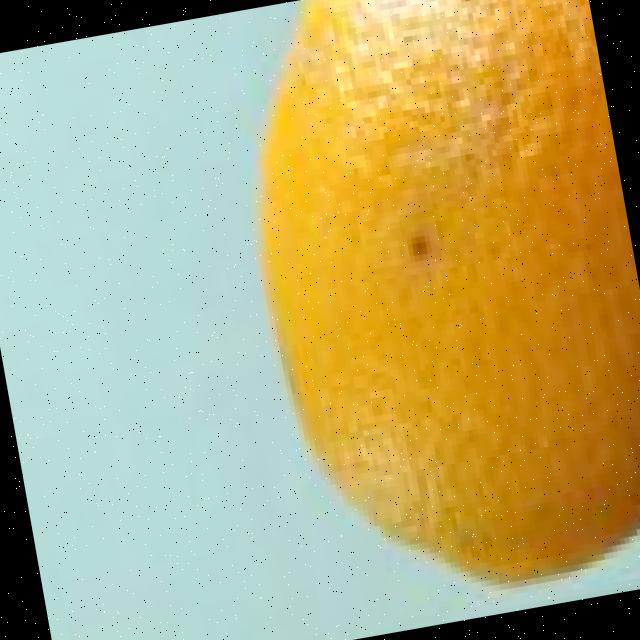Good_Orange-15-21 days: (258, 0, 640, 593)
